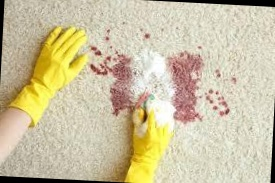wine: (83, 38, 140, 112), (168, 51, 208, 128), (203, 88, 233, 120), (209, 69, 239, 86), (135, 27, 157, 43)
